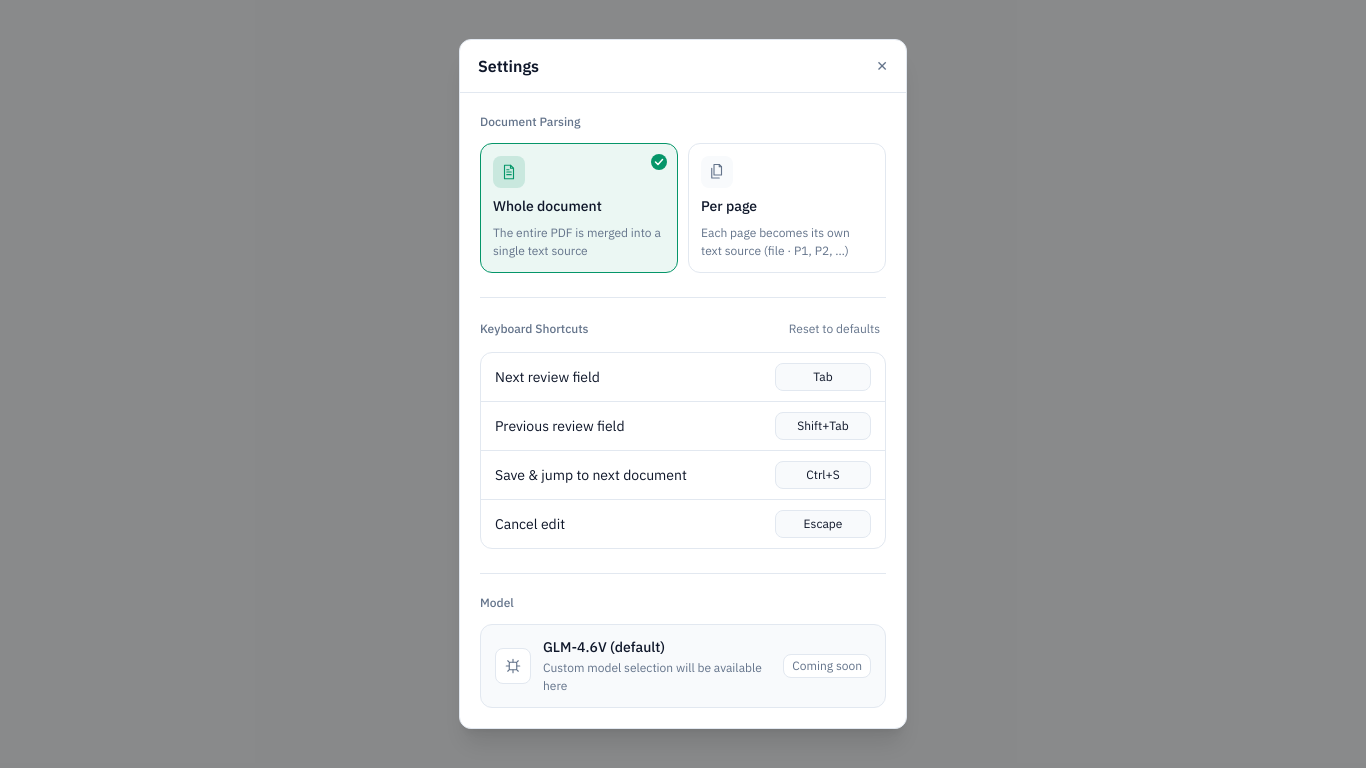
Test: SettingsModal › shortcuts section (issue #5) › aborting with Escape does not close the dialog
Click the button with aria-label "Rebind: Next review field" at x=823, y=377, box [775,363,871,391]
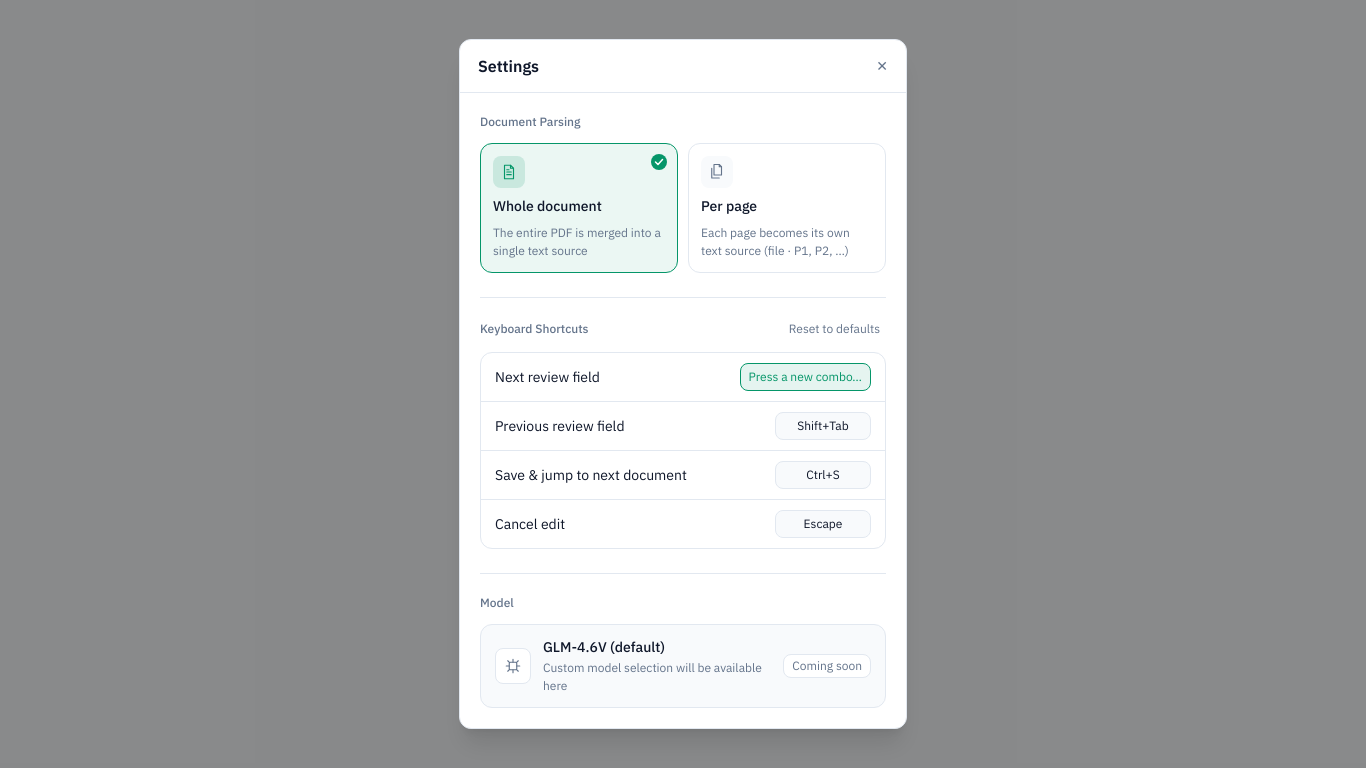
Press Escape in the dialog, box [459,39,907,729]
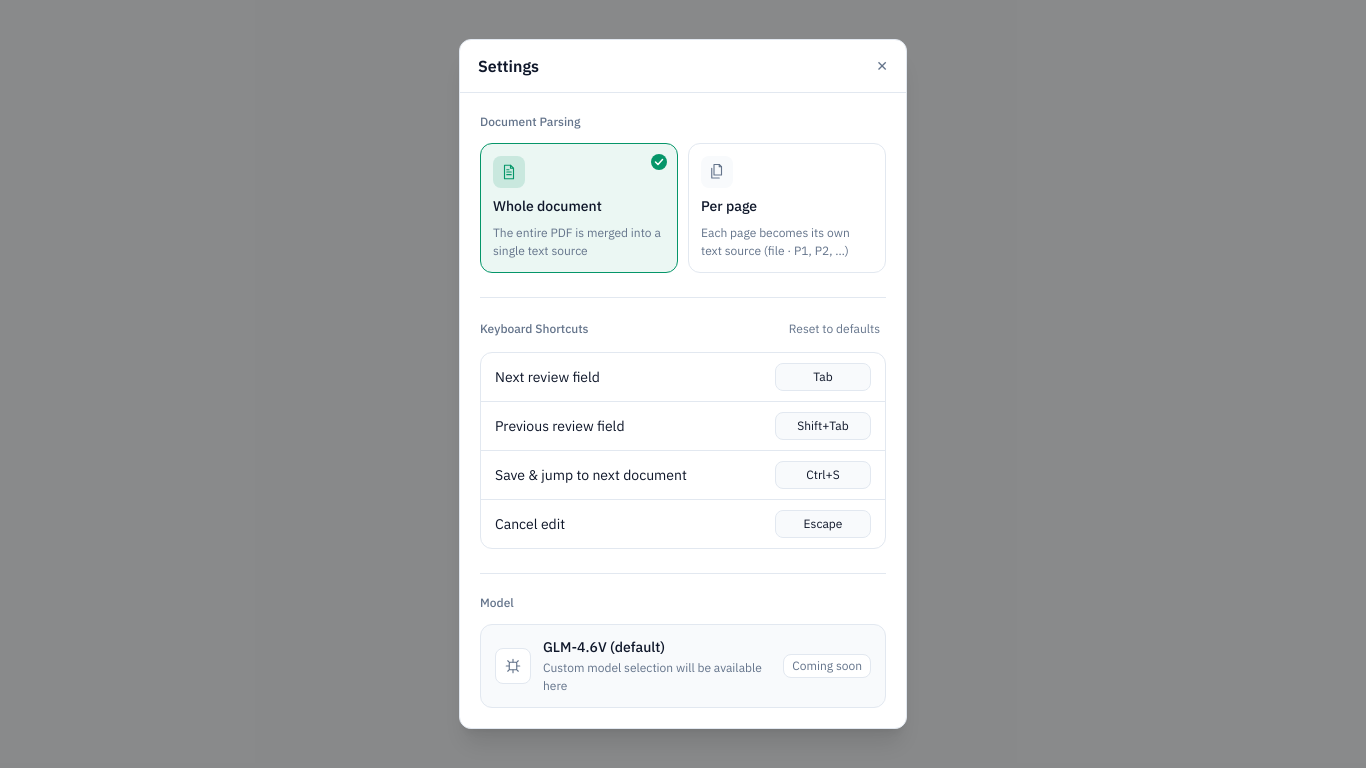
Check: the button with aria-label "Rebind: Next review field" reads "Tab", box [775,363,871,391]
